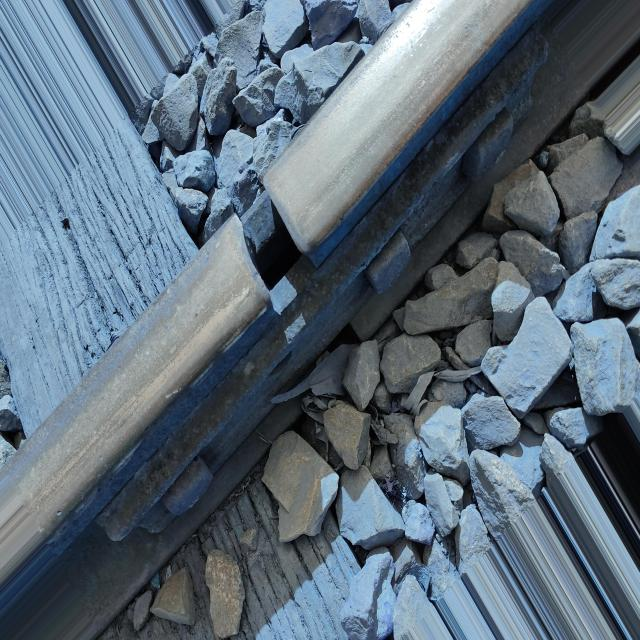crack: (215, 148, 315, 366)
